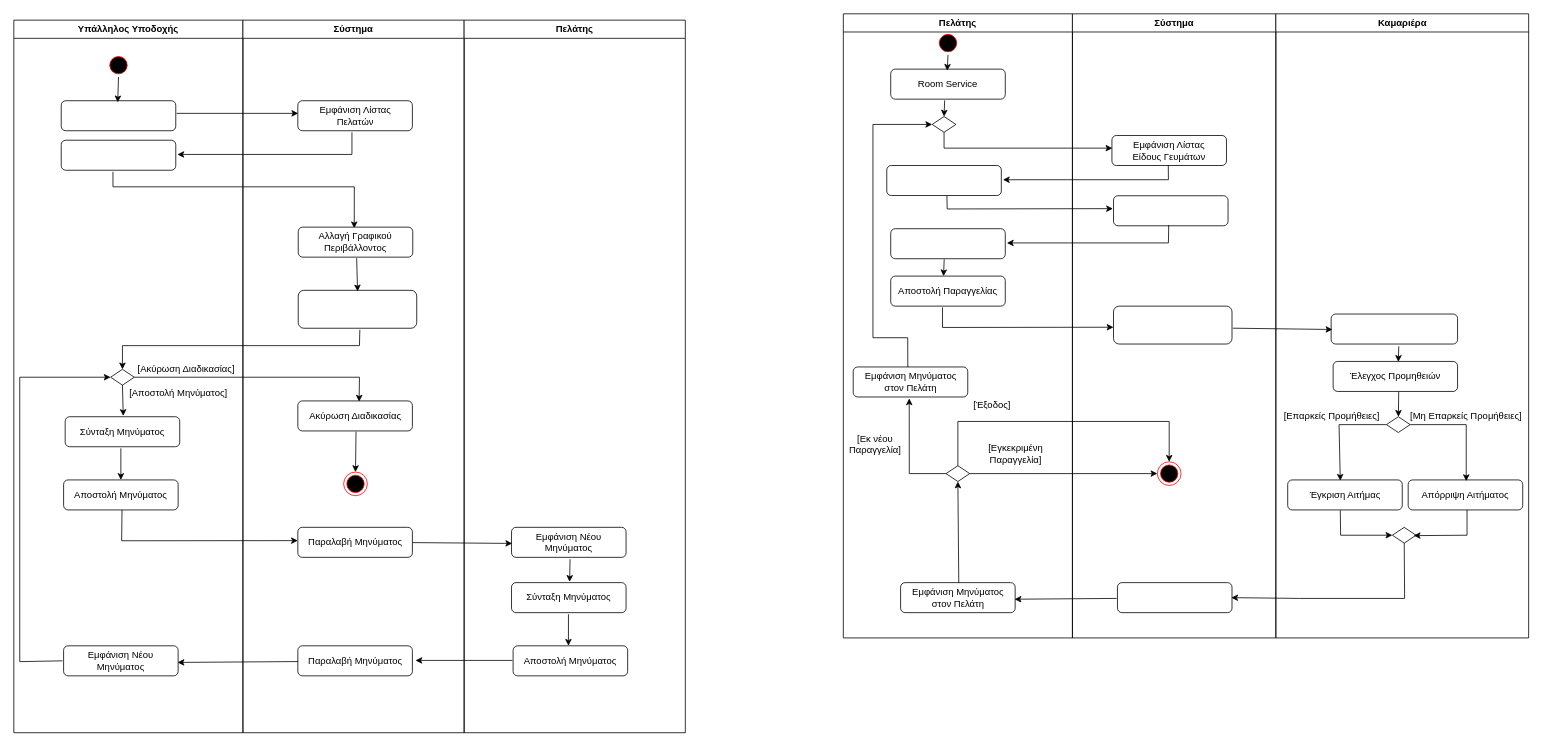
The diagram is 1543 pixels wide and 747 high, and some of its shapes have lost their labels. The centre of each missing label's shape, as x and y in pixels:
"Αποστολή Απάντησης" belongs at (x=1174, y=597).
"Αποστολή Παραγγελίας σε καμαριέρα" belongs at (x=1172, y=324).
"Εκκίνηση Νέας Συνομιλίας" belongs at (x=118, y=115).
"Εμφάνιση Ειδοποίησης παραγγελίας" belongs at (x=1394, y=328).
"Εμφάνιση Επιλογών Ώρας Παράδοσης" belongs at (x=1170, y=210).
"Εμφανίση Γραφικού Περιβάλλοντος (chat room)" belongs at (x=357, y=309).
"Επιλογή Γέυματος" belongs at (x=943, y=180).
"Επιλογή Συνομιλητή (Πελάτης)" belongs at (x=118, y=154).
"Επιλογή Ώρας Παράδωσης" belongs at (x=947, y=243).
